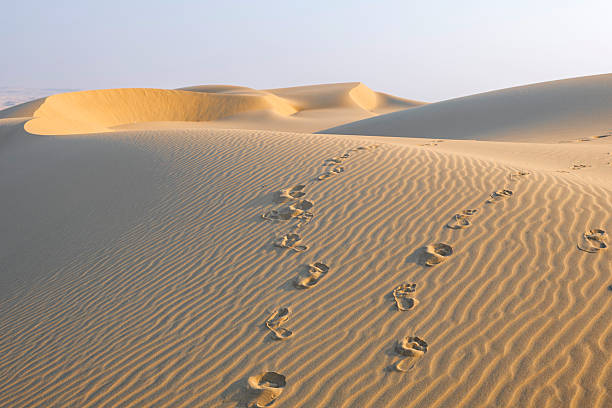human_foot_print: (247, 371, 285, 407), (395, 336, 427, 371), (262, 199, 313, 220), (294, 262, 329, 288), (265, 307, 292, 339), (420, 243, 452, 266), (392, 283, 418, 310), (577, 229, 607, 252), (446, 209, 478, 229), (274, 232, 307, 251), (276, 184, 305, 201), (316, 166, 343, 180), (486, 189, 512, 202), (509, 170, 529, 179), (570, 162, 590, 169)
